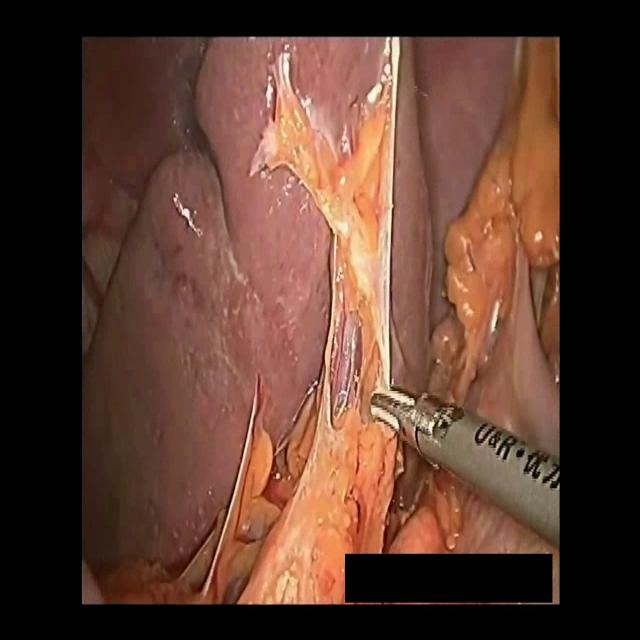surgical-area: (80, 36, 562, 611)
surgical-tool: (368, 385, 562, 552)
